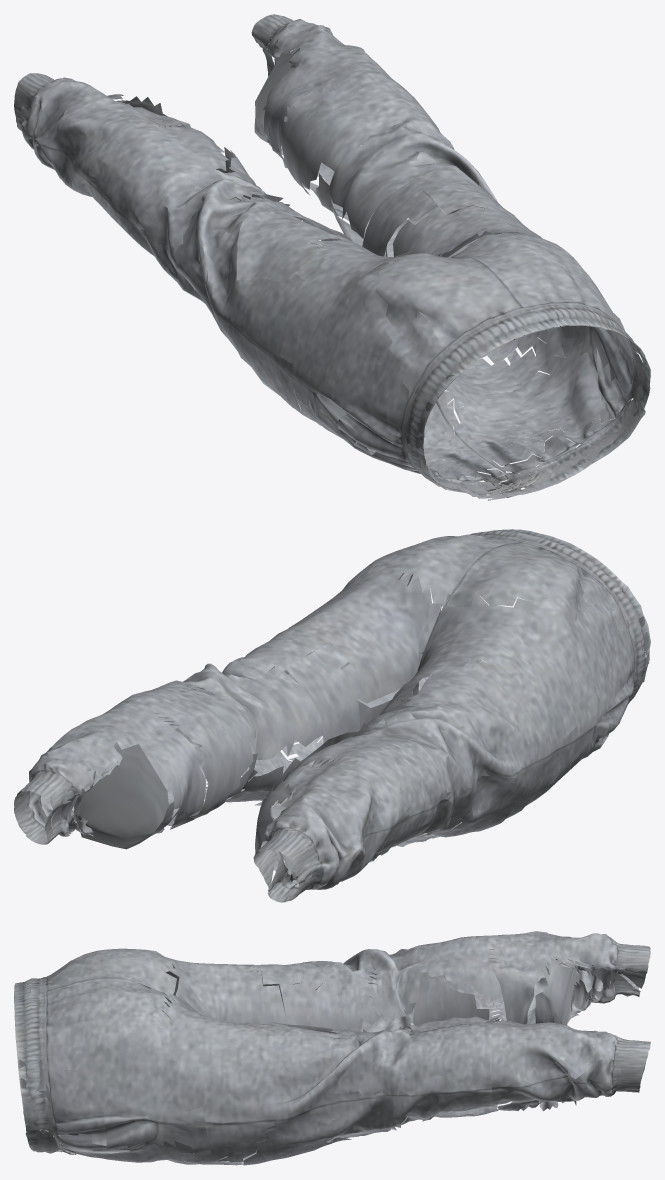
File: adult-base-01.mobile.glb
3 renders of one model, top to bottom at view 1: azimuth 30°, elevation 25°; view 2: azimuth 150°, elevation 25°; view 3: azimuth 270°, elevation 25°, orthographic. The views are drawn at different scales.
Parts seen in each view (by area): view 1: geometry_0; view 2: geometry_0; view 3: geometry_0.
Part boxes in pixels (box(x1,y1,x2,y2)): geometry_0: box(14, 14, 650, 500); geometry_0: box(14, 529, 650, 902); geometry_0: box(14, 931, 650, 1165).
Bounding box in the file's own units: 0.00463 × 0.00285 × 0.0097.
1 material, 1 textured.
